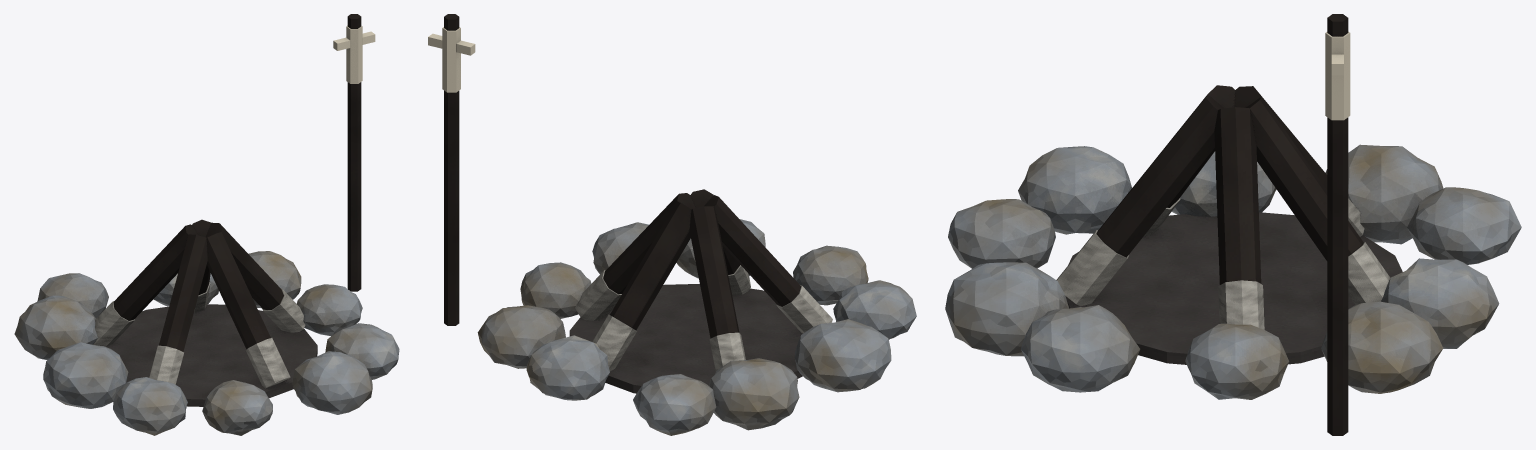
The model's file is snow_fire_pit.glb.
The picture shows the model from 3 angles, left to right: view 1: azimuth 30°, elevation 25°; view 2: azimuth 150°, elevation 25°; view 3: azimuth 270°, elevation 25°; orthographic projection. The views are drawn at different scales.
Visible parts, largest first — view 1: snow_fire_pit.001; view 2: snow_fire_pit.001; view 3: snow_fire_pit.001.
Boxes of the visible parts, x1,y1,x2,y2 form: snow_fire_pit.001: (14, 14, 399, 435); snow_fire_pit.001: (428, 14, 916, 435); snow_fire_pit.001: (945, 14, 1521, 435).
Size of the model in its own units: 1.54 by 1.14 by 1.39.
5 materials, 5 textured.
